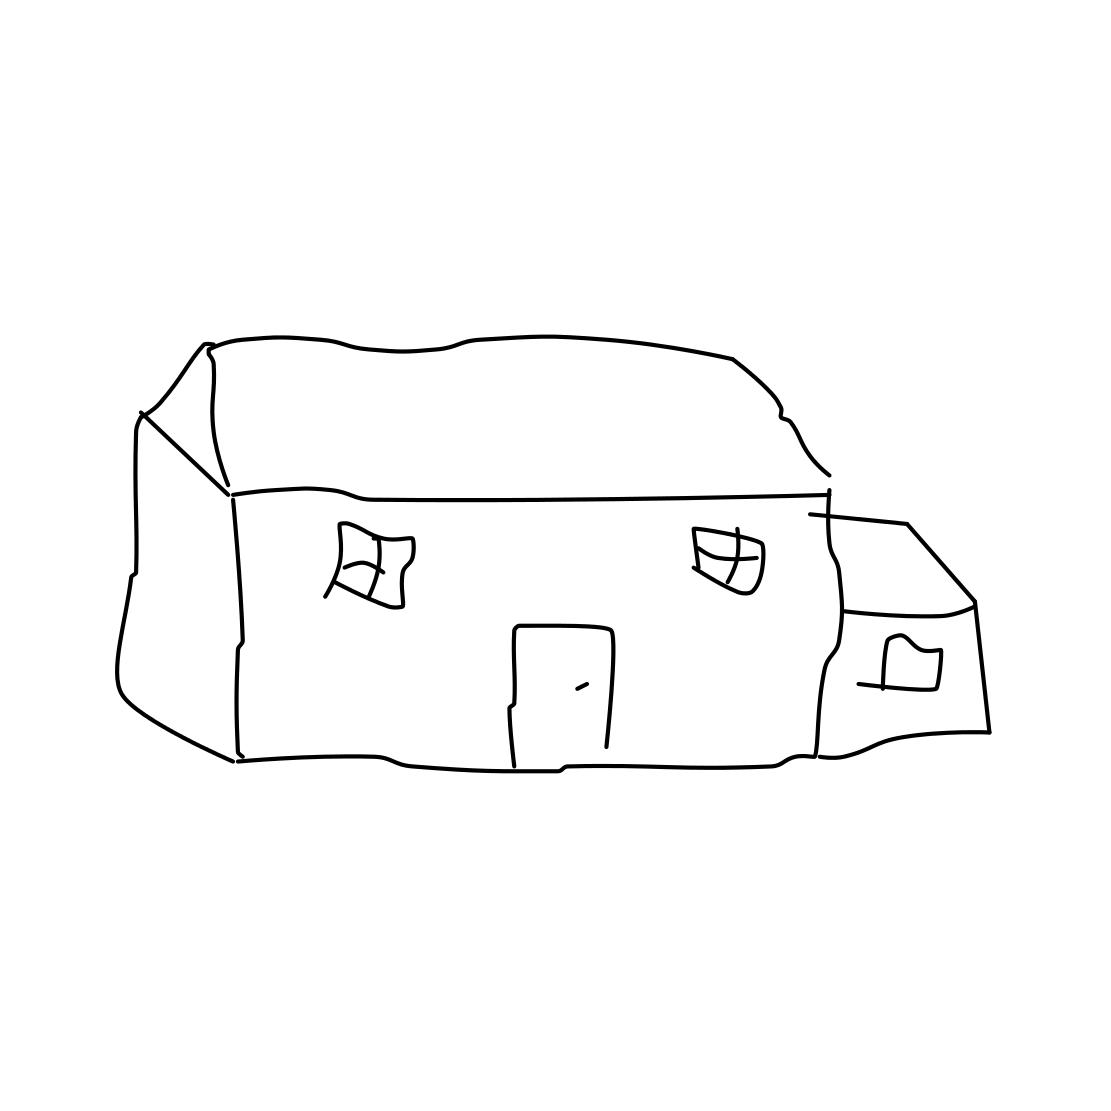House: (83, 271, 1008, 792)
